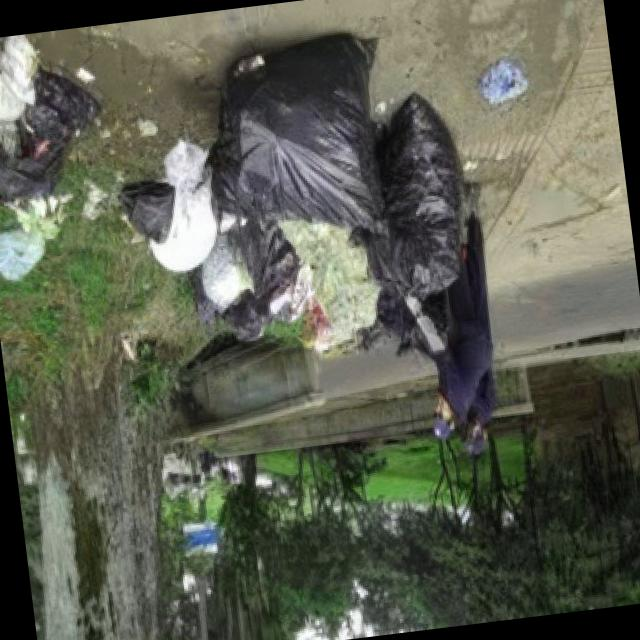high trash: (121, 36, 462, 350), (0, 34, 99, 281)
less trash: (478, 60, 527, 104)
